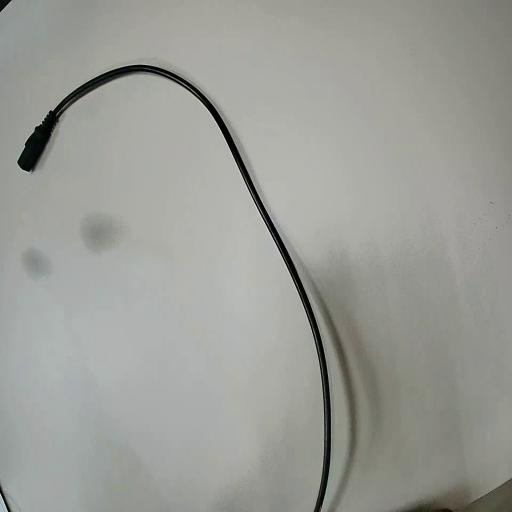wire: (18, 66, 330, 511)
